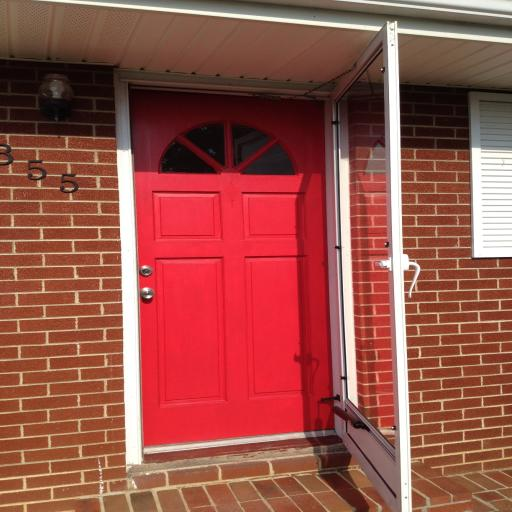Door: (114, 20, 419, 512), (128, 88, 333, 444), (320, 20, 419, 512)
Stairs: (75, 435, 512, 512)
